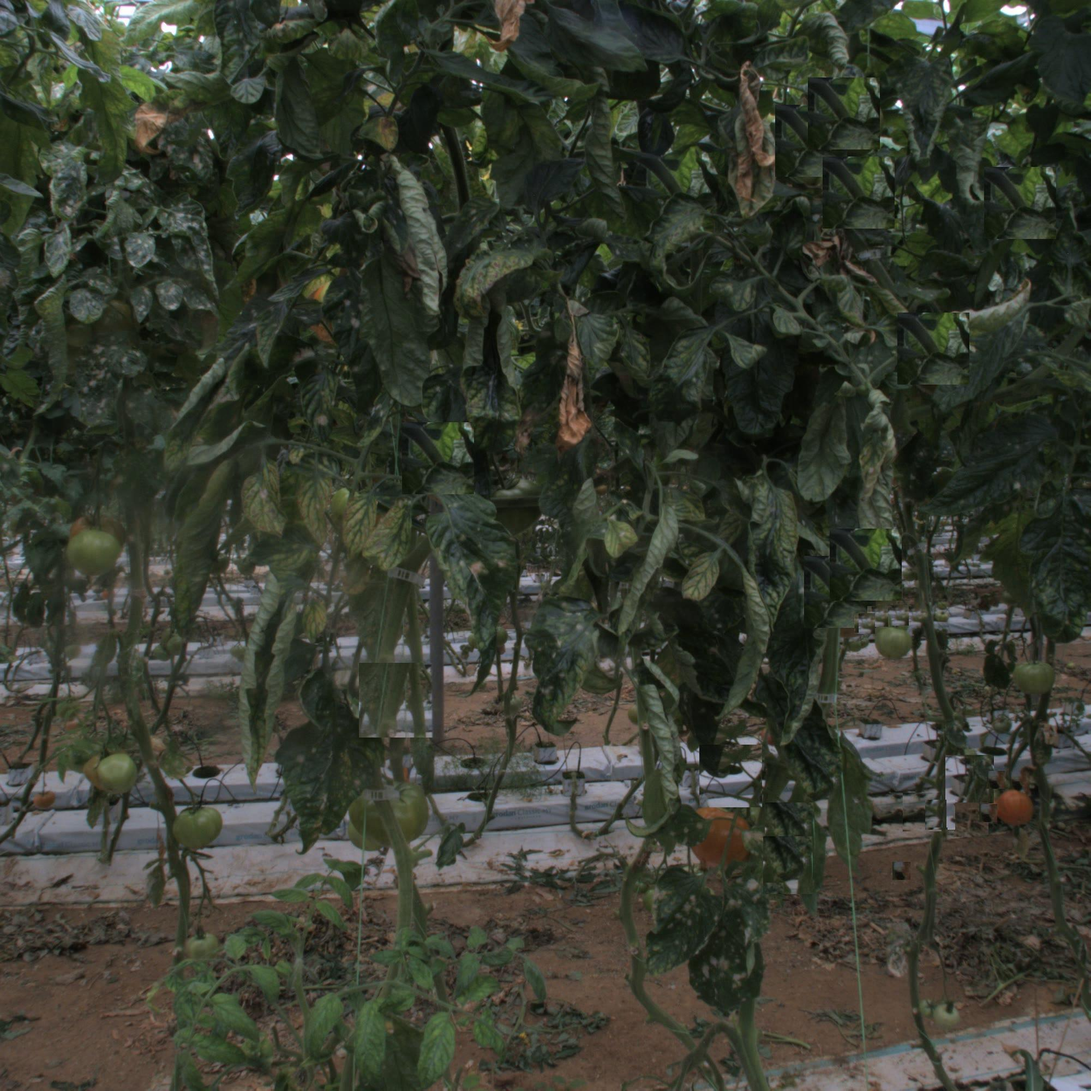fully-ripe: (691, 808, 745, 863), (1000, 791, 1035, 826)
unripe: (352, 780, 426, 854), (66, 523, 121, 577), (176, 805, 220, 850), (97, 751, 141, 795), (1015, 657, 1054, 696), (876, 625, 912, 661)
